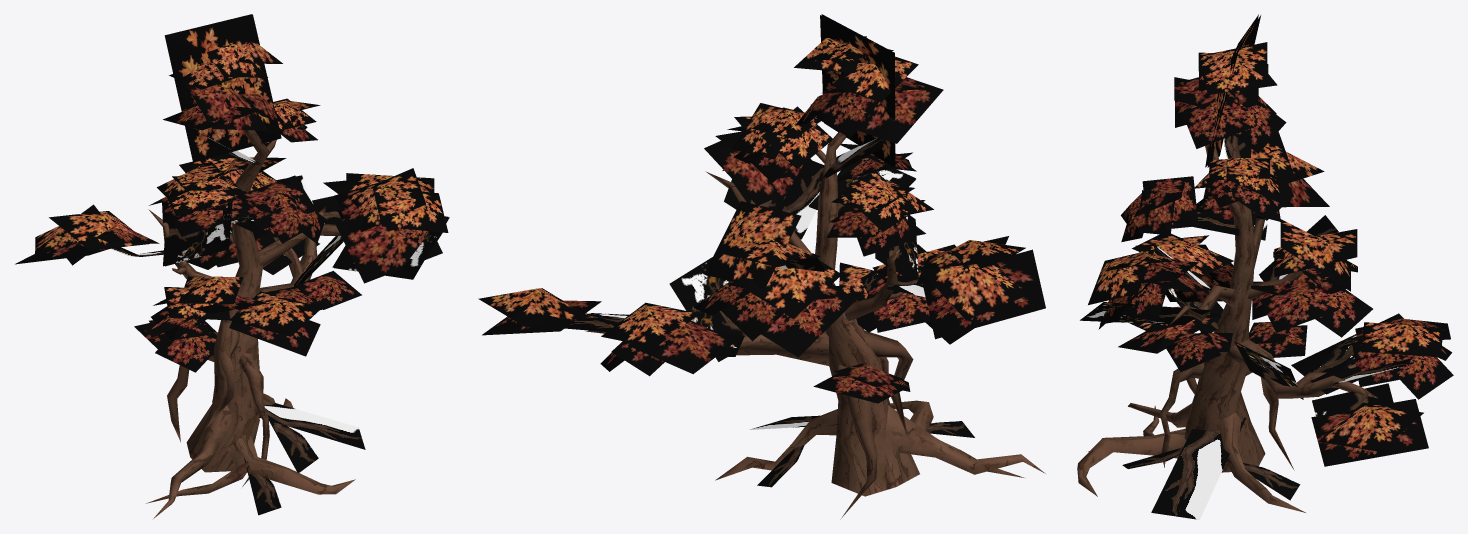
The model's file is 2_Plant_Fengshu_03.FBX.
3 renders of one model, left to right at view 1: azimuth 30°, elevation 25°; view 2: azimuth 150°, elevation 25°; view 3: azimuth 270°, elevation 25°, orthographic. The views are drawn at different scales.
Parts seen in each view (by area): view 1: 2_Plant_Fengshu_03_04, 2_Plant_Fengshu_03_01, 2_Plant_Fengshu_03_05, 2_Plant_Fengshu_03_03, 2_Plant_Fengshu_03_02; view 2: 2_Plant_Fengshu_03_01, 2_Plant_Fengshu_03_03, 2_Plant_Fengshu_03_04, 2_Plant_Fengshu_03_05, 2_Plant_Fengshu_03_02; view 3: 2_Plant_Fengshu_03_01, 2_Plant_Fengshu_03_04, 2_Plant_Fengshu_03_03, 2_Plant_Fengshu_03_05, 2_Plant_Fengshu_03_02.
Part boxes in pixels (x1,y1,x2,y2): 2_Plant_Fengshu_03_04: (15, 168, 448, 372); 2_Plant_Fengshu_03_01: (110, 130, 449, 518); 2_Plant_Fengshu_03_05: (163, 14, 320, 162); 2_Plant_Fengshu_03_03: (149, 153, 286, 269); 2_Plant_Fengshu_03_02: (323, 173, 434, 194); 2_Plant_Fengshu_03_01: (565, 132, 1045, 519); 2_Plant_Fengshu_03_03: (600, 170, 933, 376); 2_Plant_Fengshu_03_04: (704, 116, 1045, 403); 2_Plant_Fengshu_03_05: (732, 14, 943, 182); 2_Plant_Fengshu_03_02: (478, 288, 601, 335); 2_Plant_Fengshu_03_01: (1077, 135, 1412, 519); 2_Plant_Fengshu_03_04: (1088, 131, 1329, 372); 2_Plant_Fengshu_03_03: (1194, 171, 1453, 399); 2_Plant_Fengshu_03_05: (1174, 14, 1293, 220); 2_Plant_Fengshu_03_02: (1311, 399, 1428, 466).
Size of the model in its own units: 1376 by 1216 by 926.
Materials: 2 (2 with a texture image).
